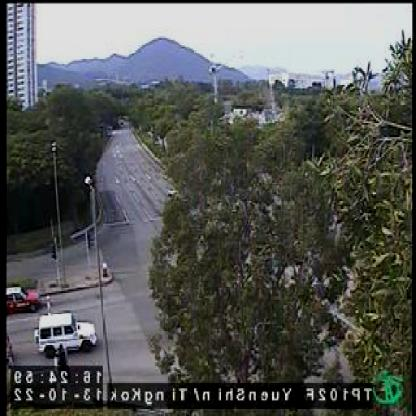Car: (34, 310, 96, 358), (4, 281, 42, 313)
